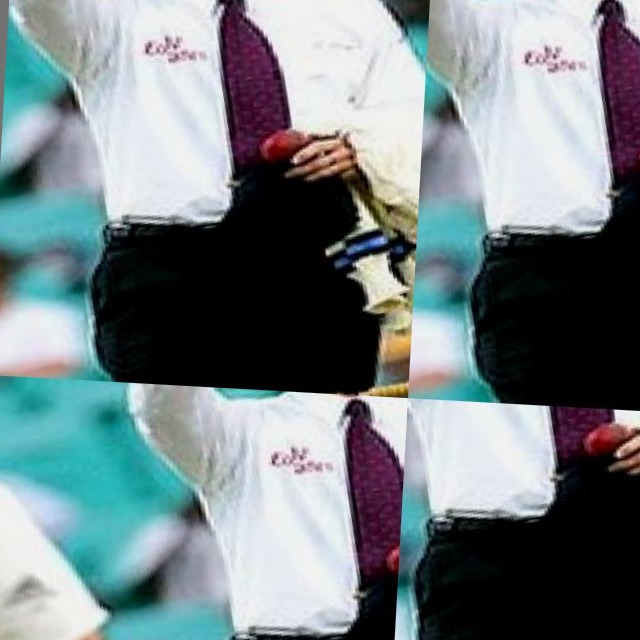Out: (393, 398, 640, 640)
Six: (564, 0, 640, 414)
